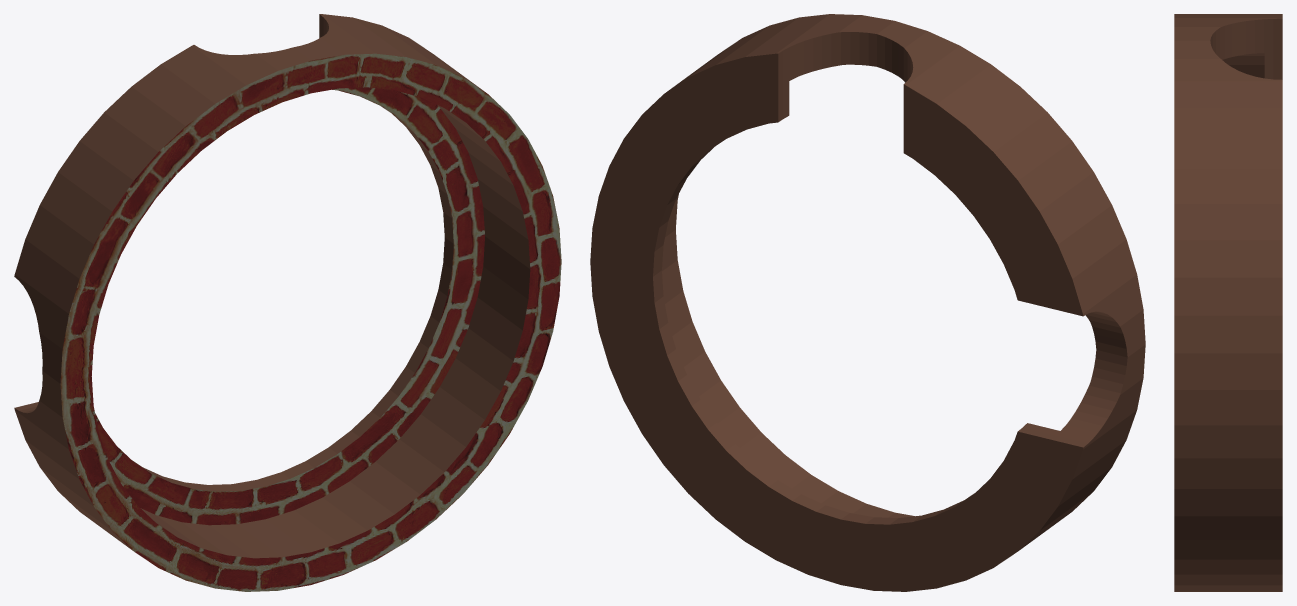
File: pool_050.obj
3 views of the same model, side by side, from view 1: azimuth 30°, elevation 25°; view 2: azimuth 150°, elevation 25°; view 3: azimuth 270°, elevation 25° (orthographic).
Size of the model in its own units: 16 by 16 by 3.
